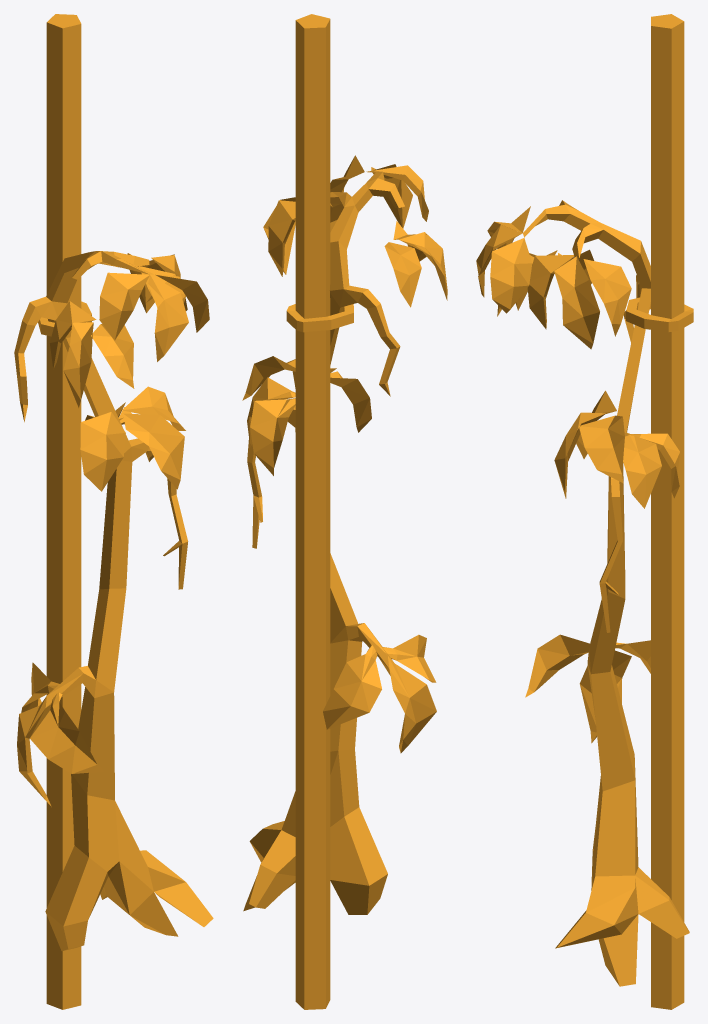
The model's file is SM_Tomato_Dead_Harvested_Single_A.fbx.
3 renders of one model, left to right at view 1: azimuth 30°, elevation 25°; view 2: azimuth 150°, elevation 25°; view 3: azimuth 270°, elevation 25°, orthographic.
Visible parts, largest first — view 1: tomato-dead-harvested-single-a; view 2: tomato-dead-harvested-single-a; view 3: tomato-dead-harvested-single-a.
Boxes of the visible parts, x1,y1,x2,y2 form: tomato-dead-harvested-single-a: (14, 14, 213, 1009); tomato-dead-harvested-single-a: (242, 14, 447, 1009); tomato-dead-harvested-single-a: (476, 14, 693, 1009).
Size of the model in its own units: 0.3008 by 1.61 by 0.3243.
